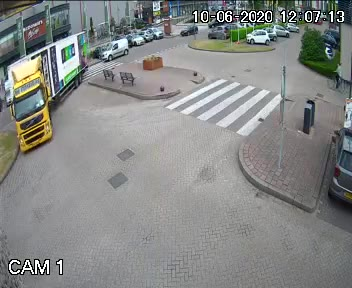car: (7, 28, 94, 152), (98, 35, 132, 64)
